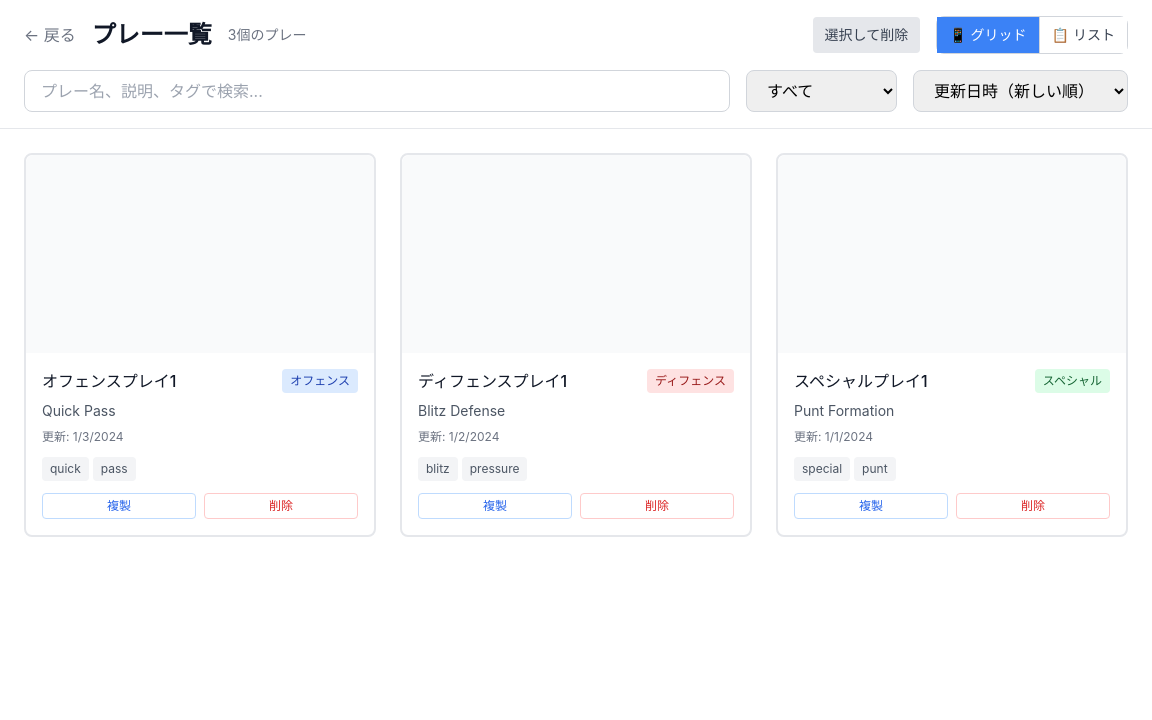
it: PlayLibrary › ビュー切り替え › グリッドビューに戻せること
リストビューに切り替え
Click the button "📋 リスト" at (1083, 35), box [1039,17,1127,53]
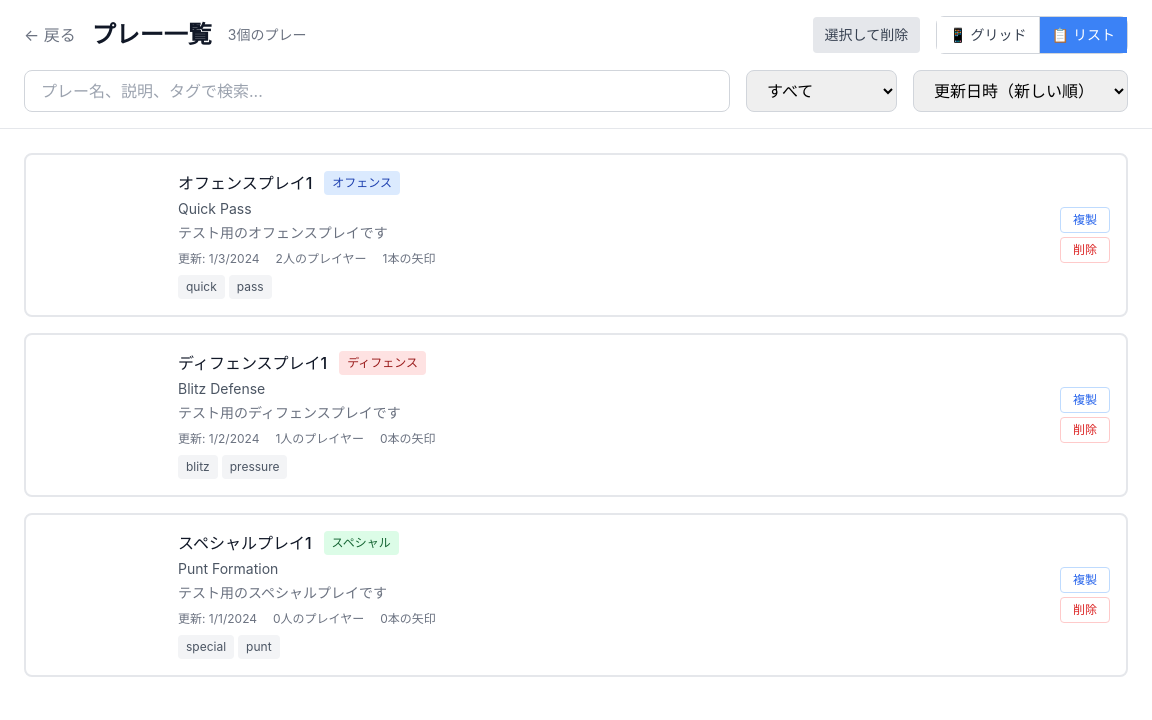
グリッドビューに戻す
Click the button "📱 グリッド" at (988, 35), box [937,17,1039,53]
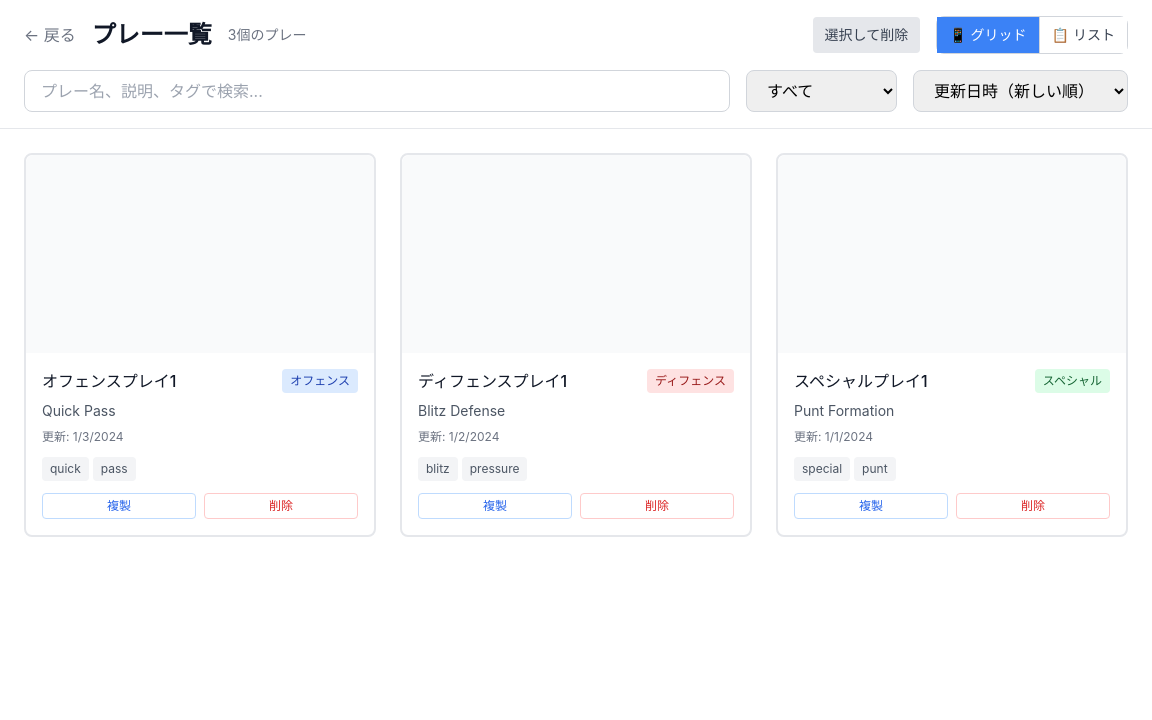
Now the text "テスト用のオフェンスプレイです" is gone
